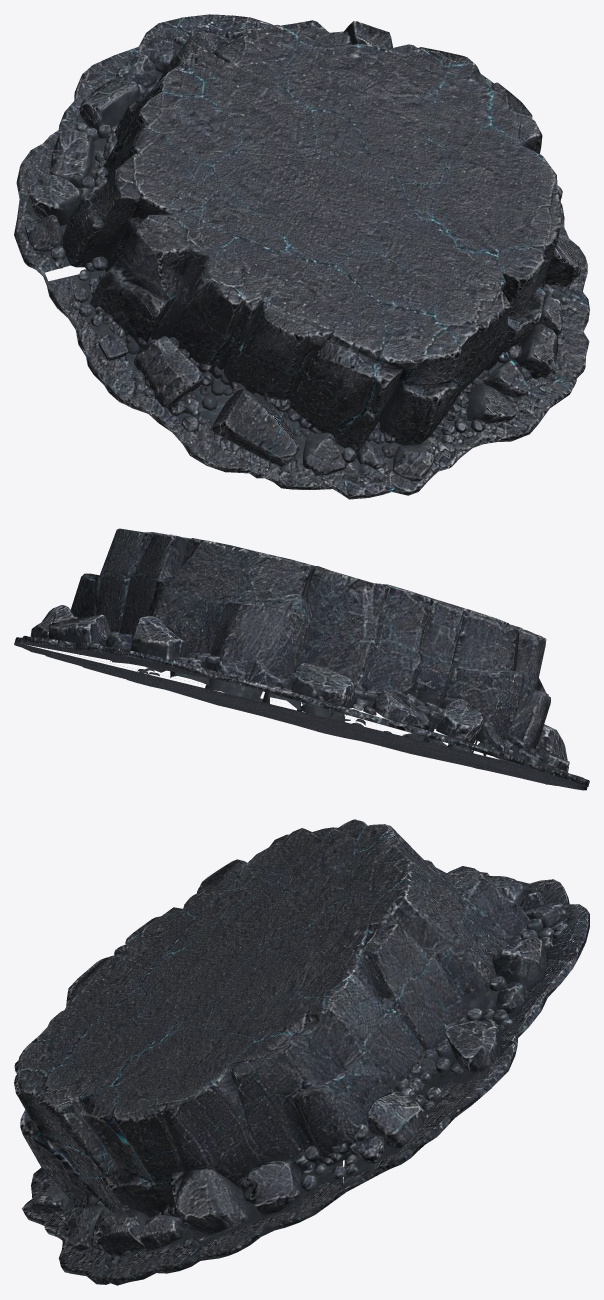
Rendered from 01-neural-basalt-base.glb.
The picture shows the model from 3 angles, top to bottom: view 1: azimuth 30°, elevation 25°; view 2: azimuth 150°, elevation 25°; view 3: azimuth 270°, elevation 25°; orthographic projection. The views are drawn at different scales.
Visible parts, largest first — view 1: cd01dc15_2808_4ed2_b4f8_35af9306795b; view 2: cd01dc15_2808_4ed2_b4f8_35af9306795b; view 3: cd01dc15_2808_4ed2_b4f8_35af9306795b.
Part boxes in pixels (x1,y1,x2,y2): cd01dc15_2808_4ed2_b4f8_35af9306795b: (14, 14, 589, 499); cd01dc15_2808_4ed2_b4f8_35af9306795b: (14, 528, 589, 790); cd01dc15_2808_4ed2_b4f8_35af9306795b: (14, 819, 589, 1285).
Bounding box in the file's own units: 0.9995 × 0.6333 × 0.9106.
1 material, 1 textured.
